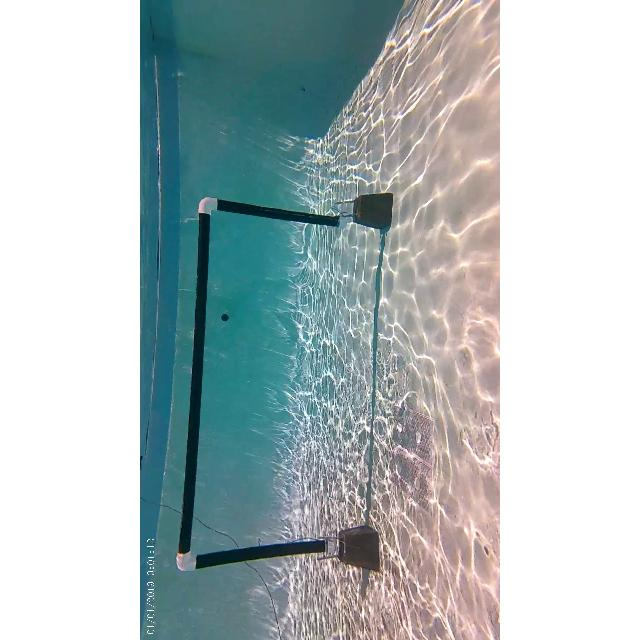prequal gate: (177, 196, 351, 572)
prequal gate leg l: (175, 528, 387, 576)
prequal gate leg r: (188, 190, 398, 236)
